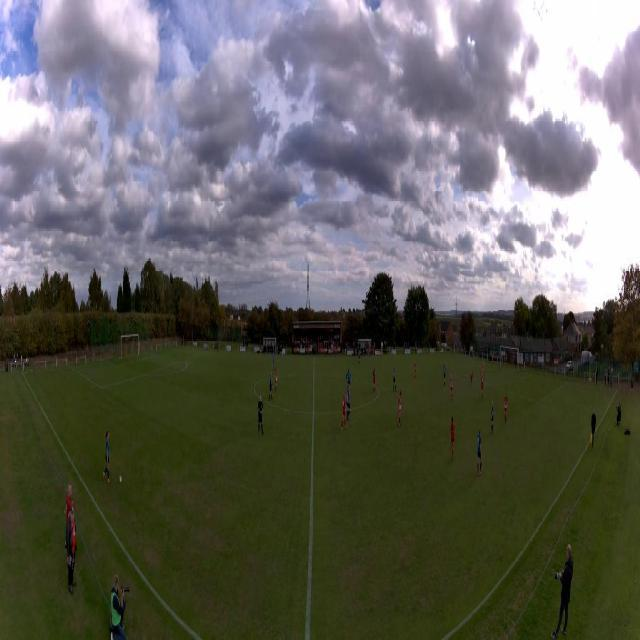ball: (119, 476, 123, 484)
player: (103, 429, 112, 483), (477, 427, 483, 476), (257, 394, 264, 435), (341, 393, 348, 431), (450, 417, 455, 461), (346, 383, 351, 420), (346, 368, 352, 396), (504, 394, 509, 424), (490, 399, 494, 435), (398, 393, 402, 429), (269, 372, 273, 400), (449, 374, 453, 401), (480, 374, 484, 400), (393, 366, 397, 392), (274, 368, 278, 393), (372, 370, 376, 392), (470, 370, 474, 387), (443, 365, 446, 386), (414, 360, 417, 380), (272, 351, 275, 371), (358, 348, 360, 364), (482, 362, 484, 377)
